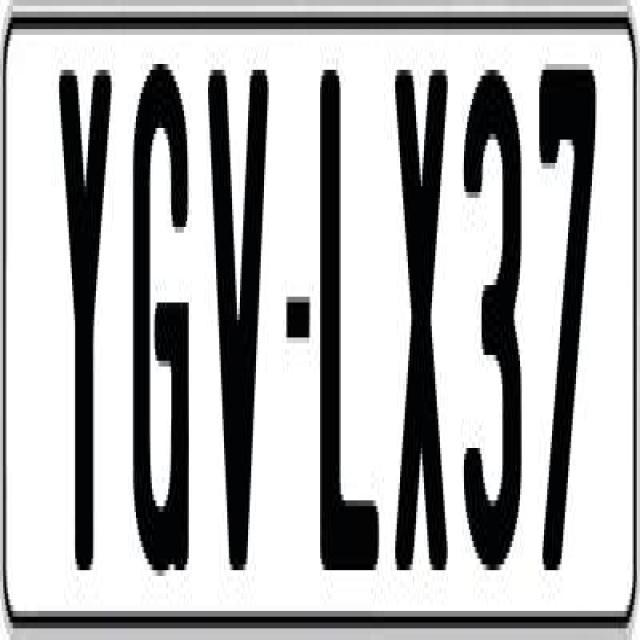3: (464, 58, 525, 594)
7: (539, 58, 605, 582)
G: (132, 58, 194, 564)
L: (318, 58, 378, 582)
V: (204, 52, 270, 582)
X: (391, 52, 444, 576)
Y: (59, 64, 115, 588)
